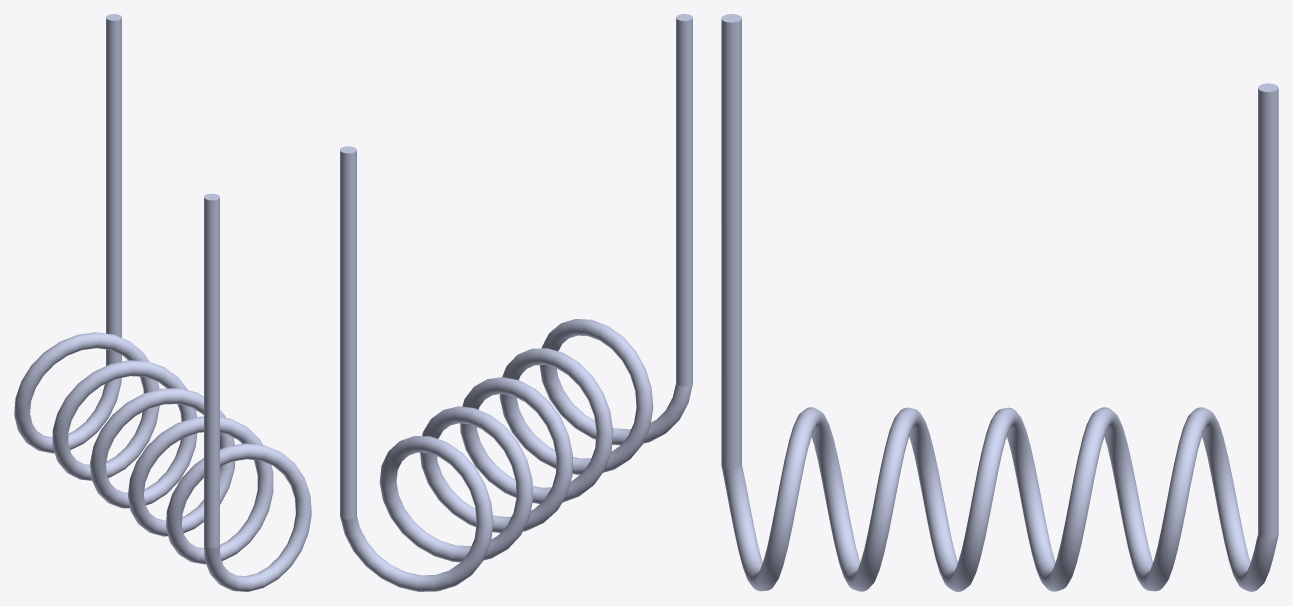
The model's file is Coil.obj.
The picture shows the model from 3 angles, left to right: view 1: azimuth 30°, elevation 25°; view 2: azimuth 150°, elevation 25°; view 3: azimuth 270°, elevation 25°; orthographic projection. The views are drawn at different scales.
Visible parts, largest first — view 1: ig_ManifoldSolidBRep209_DC_Shell; view 2: ig_ManifoldSolidBRep209_DC_Shell; view 3: ig_ManifoldSolidBRep209_DC_Shell.
Part boxes in pixels (bbox=[...]): ig_ManifoldSolidBRep209_DC_Shell: bbox=[14, 14, 311, 591]; ig_ManifoldSolidBRep209_DC_Shell: bbox=[340, 14, 692, 591]; ig_ManifoldSolidBRep209_DC_Shell: bbox=[721, 14, 1278, 591].
Bounding box in the file's own units: 4.5 × 14.25 × 13.57.
